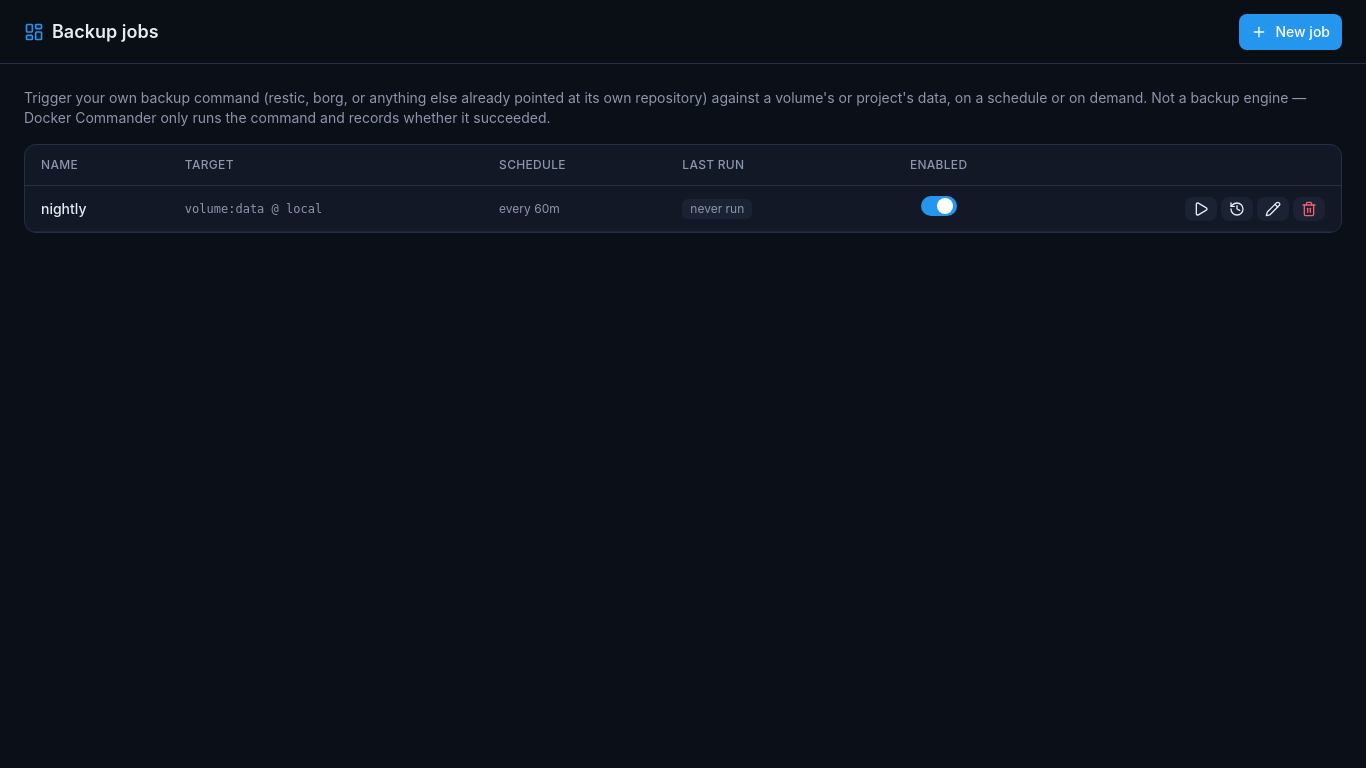
Test: BackupJobs — run history and logs › a Run-now that fails opens the log instead of vanishing
Click the button named "Run now" at point(1201, 208), box [1185,196,1217,220]
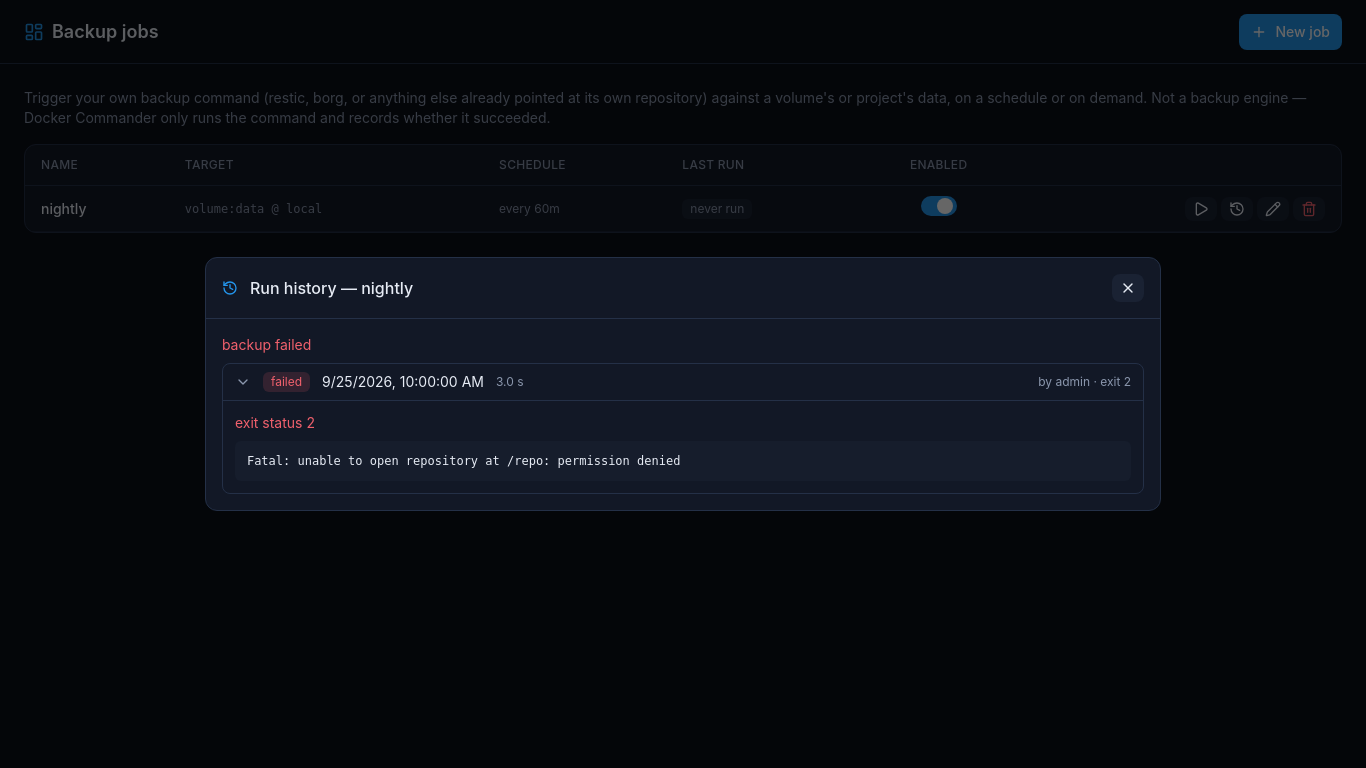
Expected: the text "Run history — nightly" is shown, [250,276,413,300]
Expected: the text "permission denied" is shown, [247,454,680,468]
Expected: the text "backup failed" is shown, [222,336,311,353]
